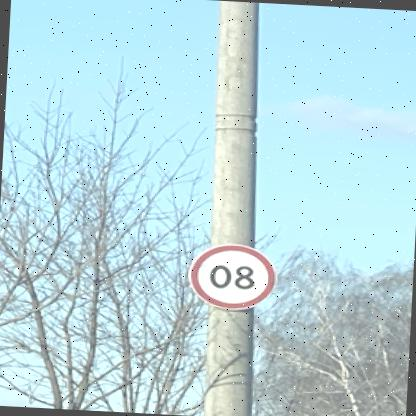speedlimit: (188, 240, 278, 312)
